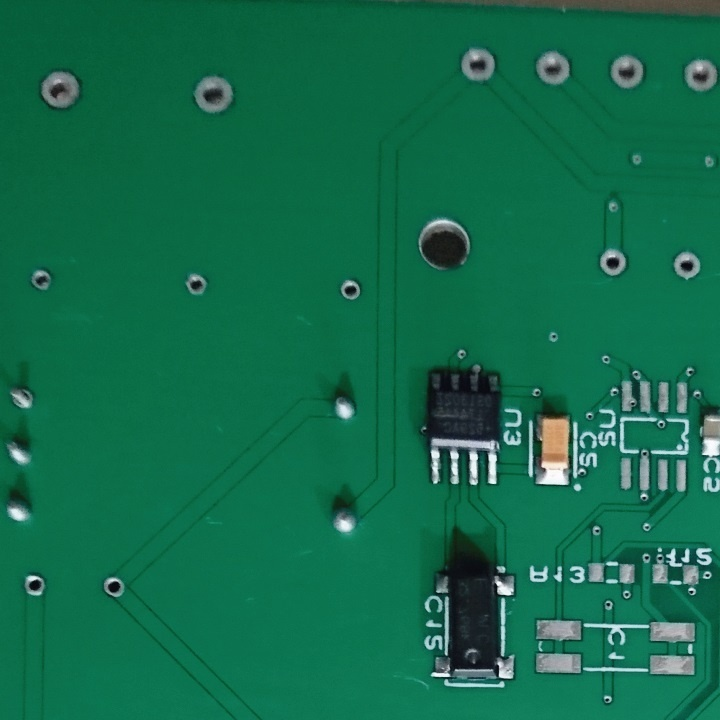F: (189, 70, 238, 120), (37, 65, 84, 115), (454, 42, 501, 89), (529, 43, 576, 89), (606, 47, 647, 94), (679, 54, 720, 98), (669, 247, 704, 283), (596, 245, 629, 281), (5, 382, 39, 415), (100, 573, 127, 602), (335, 275, 361, 305), (27, 268, 56, 294), (21, 573, 48, 600), (183, 272, 209, 300)
